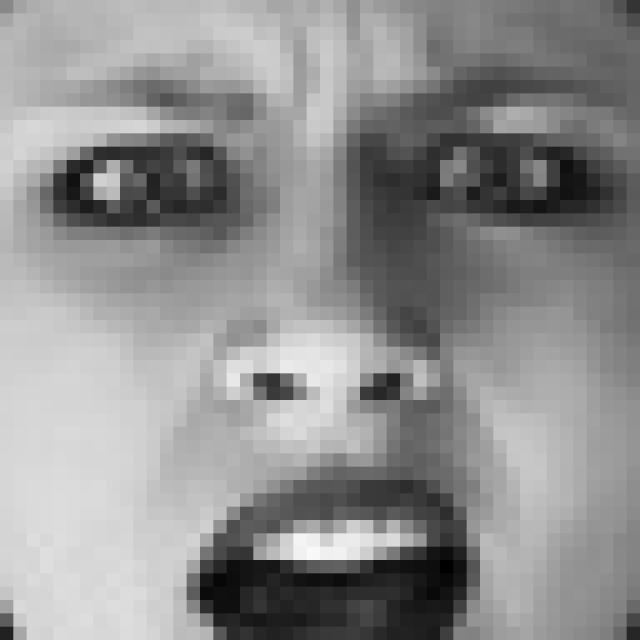disgust: (23, 72, 627, 640)
